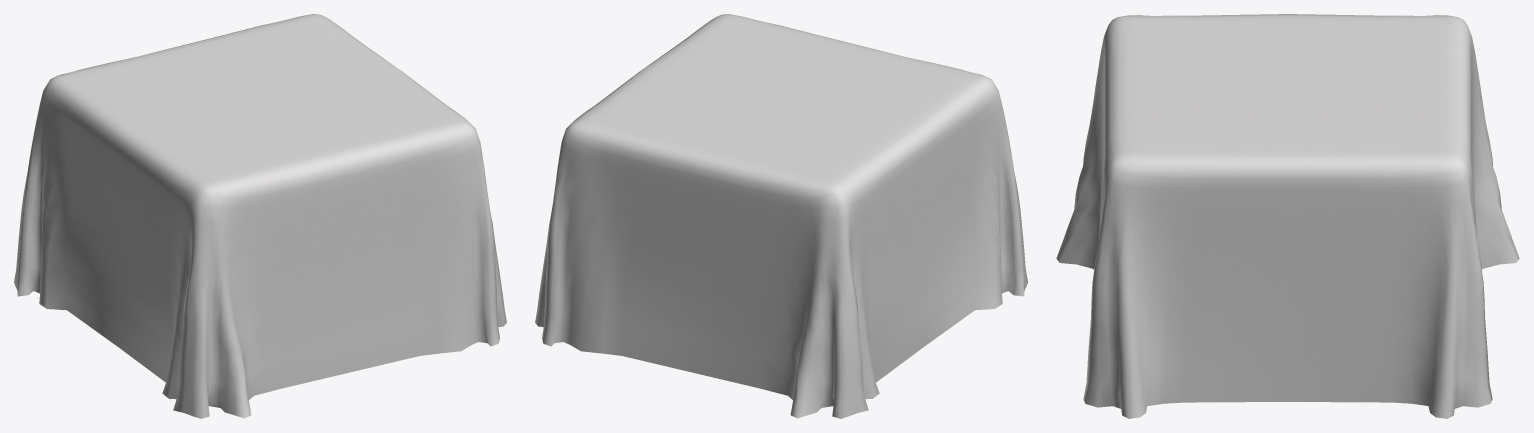
File: EventTable02Cloth02.FBX
3 views of the same model, side by side, from view 1: azimuth 30°, elevation 25°; view 2: azimuth 150°, elevation 25°; view 3: azimuth 270°, elevation 25° (orthographic). The views are drawn at different scales.
Visible parts, largest first — view 1: EventTable02Cloth02; view 2: EventTable02Cloth02; view 3: EventTable02Cloth02.
Part boxes in pixels (left/top/right/bottom): EventTable02Cloth02: left=14, top=14, right=506, bottom=418; EventTable02Cloth02: left=535, top=14, right=1027, bottom=418; EventTable02Cloth02: left=1056, top=14, right=1519, bottom=418.
Size of what is drawn, in the model's own units: 1.5 by 0.9013 by 1.59.
